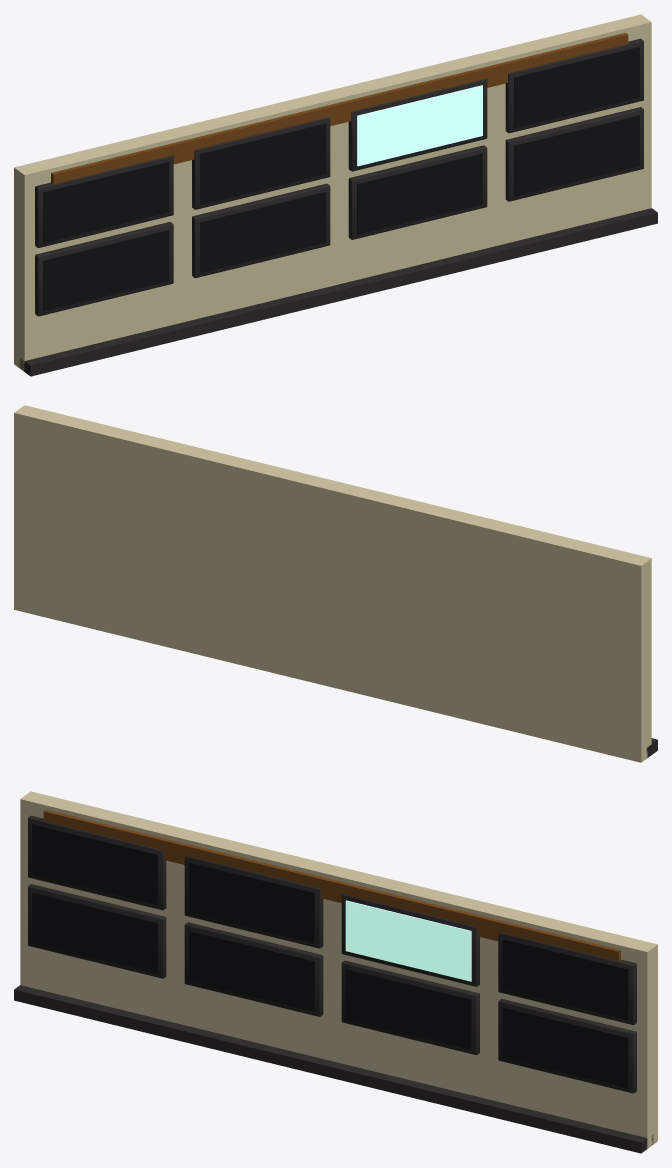
The model's file is casino_screens.glb.
3 views of the same model, one above another, from view 1: azimuth 30°, elevation 25°; view 2: azimuth 150°, elevation 25°; view 3: azimuth 330°, elevation 25° (orthographic).
Visible parts, largest first — view 1: wall, base, header, glass_0_0, glass_1_1, glass_1_0, glass_0_1, glass_0_2, glass_0_3, glass_1_2, glass_1_3, bezel_0_2 (+7 smaller); view 2: wall; view 3: wall, base, header, glass_0_3, glass_1_2, glass_1_3, glass_0_2, glass_0_0, glass_0_1, glass_1_1, glass_1_0, bezel_0_1 (+7 smaller).
Boxes of the visible parts, <box> form: wall: <box>14,14,651,370</box>; base: <box>19,208,657,376</box>; header: <box>51,32,628,184</box>; glass_0_0: <box>43,230,169,311</box>; glass_1_1: <box>200,123,326,204</box>; glass_1_0: <box>43,161,169,242</box>; glass_0_1: <box>200,192,326,272</box>; glass_0_2: <box>357,153,482,234</box>; glass_0_3: <box>514,115,639,196</box>; glass_1_2: <box>357,85,482,166</box>; glass_1_3: <box>514,47,639,127</box>; bezel_0_2: <box>348,145,487,239</box>; wall: <box>14,405,651,762</box>; wall: <box>20,791,657,1148</box>; base: <box>14,985,653,1153</box>; header: <box>43,809,620,961</box>; glass_0_3: <box>502,1007,628,1088</box>; glass_1_2: <box>345,900,471,981</box>; glass_1_3: <box>502,938,628,1019</box>; glass_0_2: <box>345,969,471,1049</box>; glass_0_0: <box>32,892,157,973</box>; glass_0_1: <box>189,930,314,1011</box>; glass_1_1: <box>189,862,314,943</box>; glass_1_0: <box>32,824,157,904</box>; bezel_0_1: <box>184,922,323,1016</box>.
Size of the model in its own units: 12 by 3.6 by 0.555.
